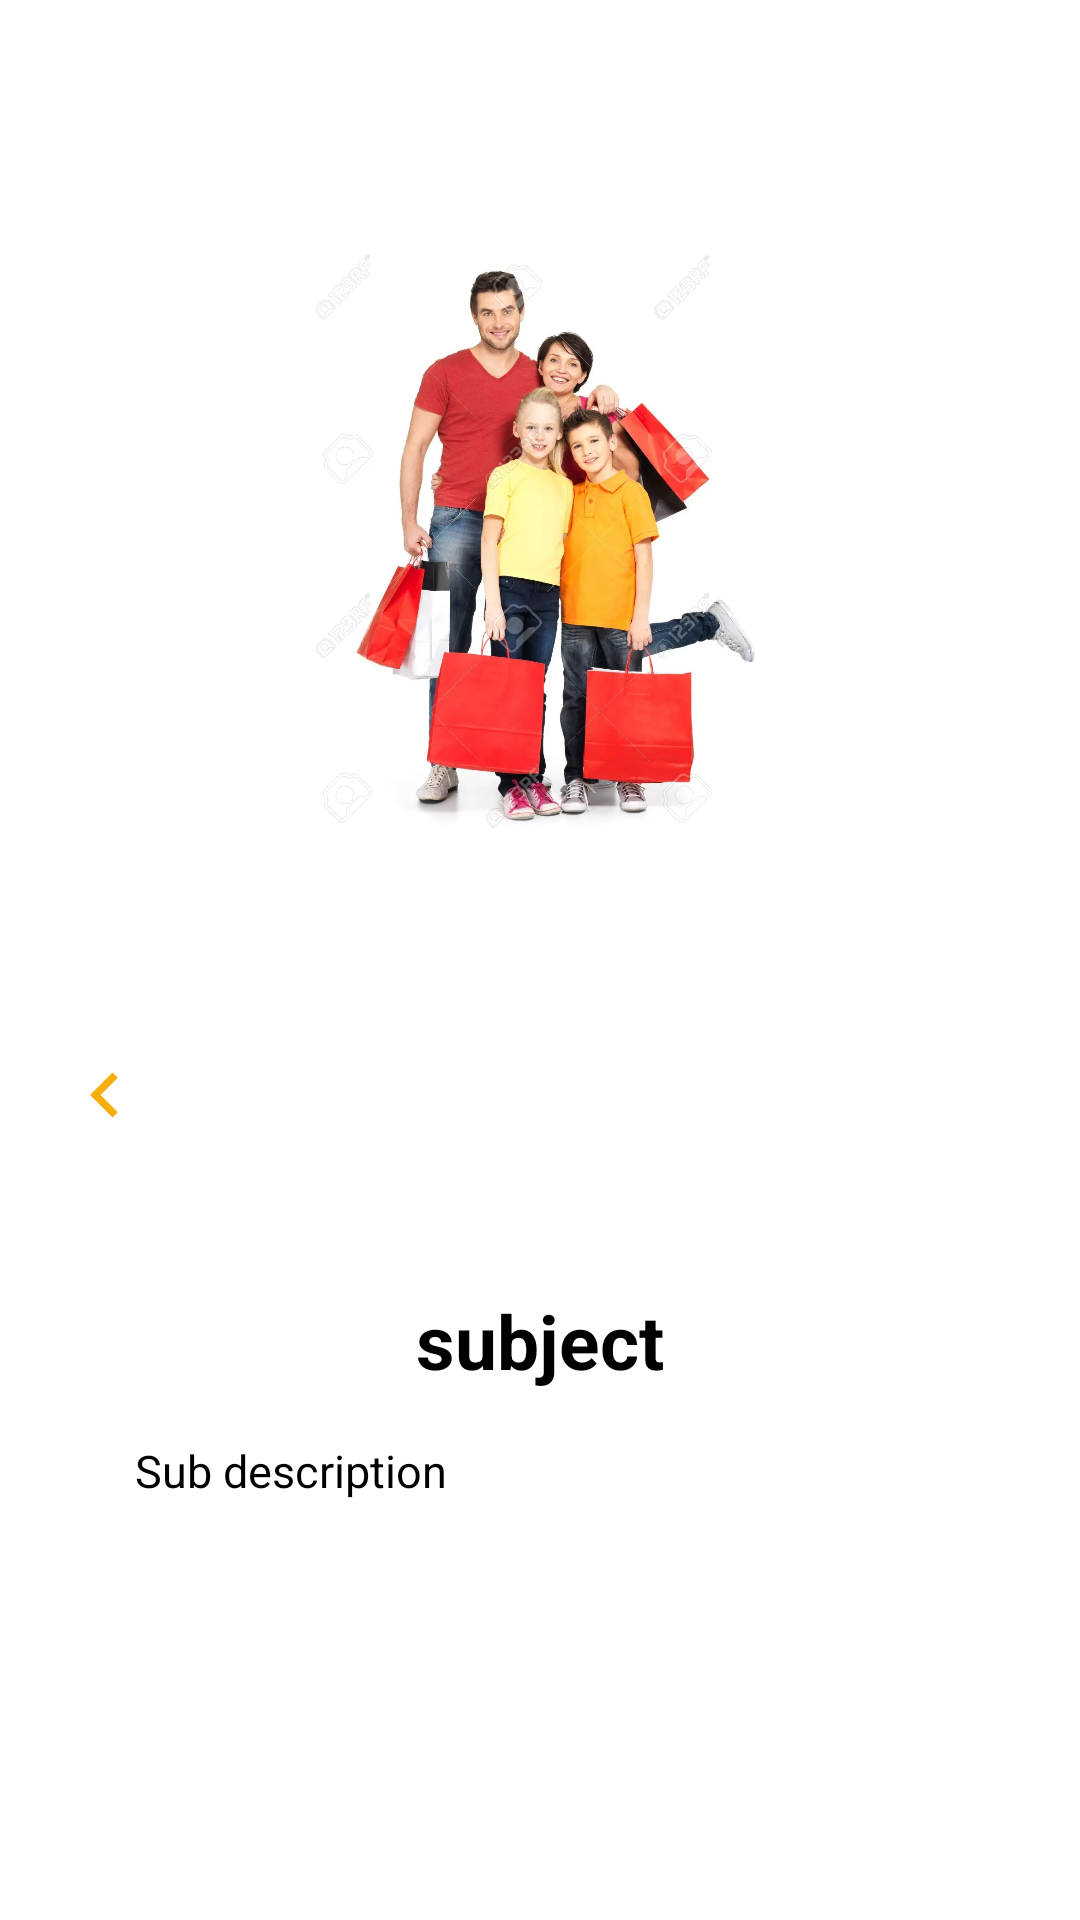

Named icons in this screenshot (1080 x 1920) and their bounding boxes, (x1, y1, x2, y2):
keyboard arrow left: (90, 1072, 118, 1118)
